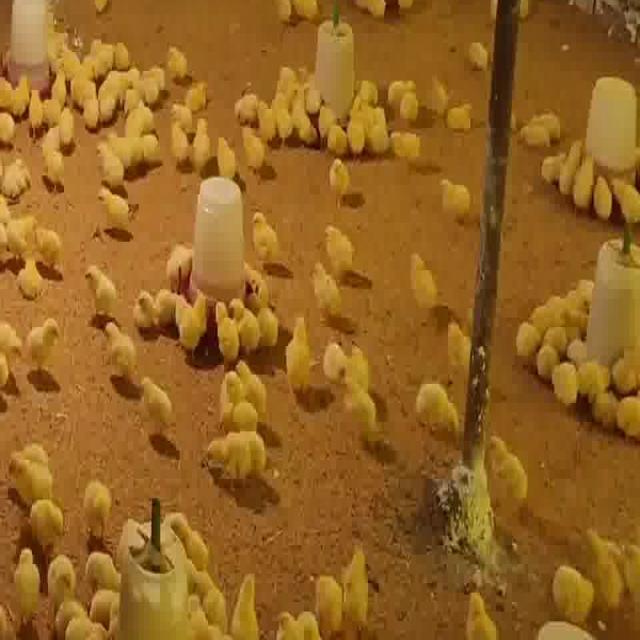poussin: (312, 557, 375, 633), (486, 427, 531, 509), (201, 424, 274, 471), (599, 531, 636, 622), (218, 358, 266, 427), (230, 574, 279, 640), (4, 440, 58, 497), (286, 311, 322, 391), (417, 374, 459, 442), (342, 373, 385, 435), (550, 556, 592, 618), (271, 598, 333, 640), (80, 257, 121, 318), (462, 580, 502, 640), (321, 336, 371, 384), (171, 509, 213, 566), (104, 316, 142, 376), (57, 594, 106, 640), (26, 310, 64, 368), (319, 212, 356, 271), (78, 470, 112, 534), (179, 288, 213, 351), (441, 171, 480, 224), (247, 287, 278, 350), (246, 196, 278, 256), (136, 372, 174, 422), (47, 546, 83, 598), (0, 316, 26, 388), (607, 169, 640, 224), (306, 259, 338, 315), (408, 252, 435, 316), (29, 499, 72, 539), (16, 541, 38, 619), (444, 93, 488, 132), (388, 72, 424, 119), (132, 279, 174, 319), (194, 564, 226, 616), (392, 123, 428, 167), (0, 217, 35, 261), (96, 185, 136, 223), (15, 257, 47, 303), (228, 294, 255, 348), (242, 129, 273, 174), (134, 56, 167, 98), (212, 298, 237, 352), (324, 154, 354, 198), (539, 145, 569, 187), (192, 116, 214, 172), (550, 355, 578, 399), (4, 153, 32, 195), (572, 159, 596, 207), (100, 68, 125, 113), (110, 123, 138, 162), (168, 41, 194, 83), (554, 284, 593, 312), (578, 355, 612, 387), (591, 389, 621, 425), (557, 146, 583, 187), (616, 395, 640, 439), (88, 543, 116, 580), (426, 66, 449, 111), (274, 97, 295, 145), (180, 74, 211, 106), (234, 86, 261, 122), (520, 116, 550, 148), (516, 315, 538, 358), (368, 105, 389, 150), (592, 169, 612, 216), (470, 31, 493, 70), (614, 350, 640, 384), (9, 72, 29, 116), (326, 119, 351, 154), (349, 107, 368, 153), (36, 223, 60, 259), (104, 139, 125, 180), (299, 99, 318, 142), (169, 118, 188, 160), (52, 60, 70, 104), (278, 62, 301, 96), (256, 92, 275, 133), (110, 34, 132, 68), (129, 97, 153, 127), (170, 93, 194, 123), (544, 321, 572, 346), (536, 336, 554, 374), (529, 293, 555, 319), (44, 150, 68, 178), (42, 122, 64, 152), (140, 131, 159, 165), (72, 72, 98, 96), (217, 138, 234, 174), (27, 90, 41, 132), (84, 88, 98, 128), (568, 333, 588, 360), (61, 104, 75, 141), (564, 303, 584, 327), (81, 52, 107, 70), (96, 32, 112, 61)
